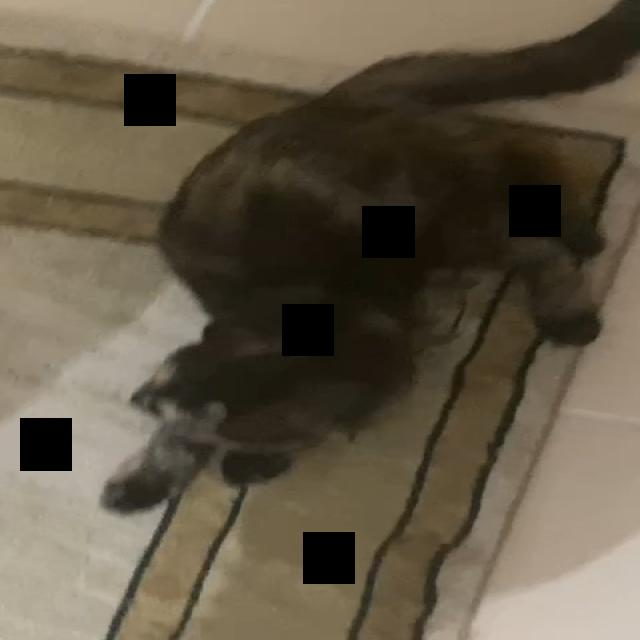authorized: (96, 0, 637, 638)
